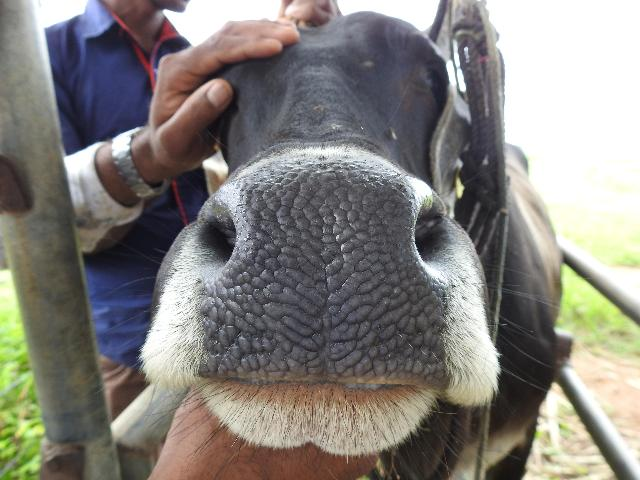Muzzle: (205, 170, 452, 386)
